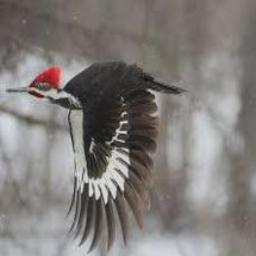Woodpecker: (5, 63, 187, 250)
